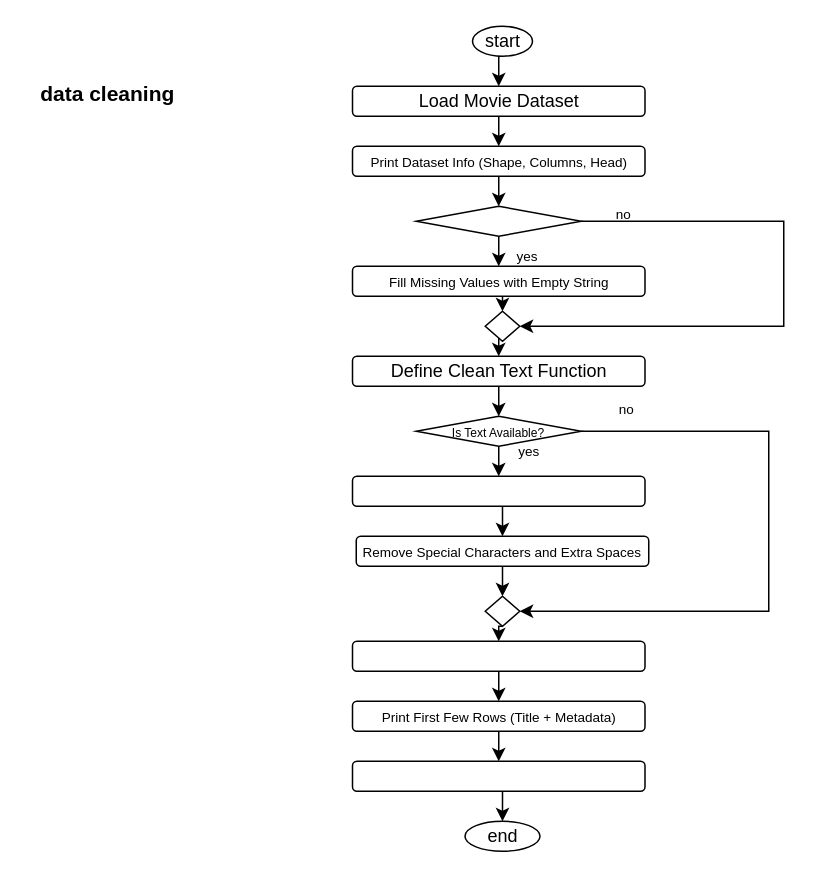
Image size: 822x878. Some labels were removed from this diagram. The centre of each missing label's shape, as x and y in pixels:
Convert Text to Lowercase: pixel 498 490
Missing Values?: pixel 498 220
Save Cleaned Dataset (movies_cleaned.csv): pixel 498 775
Store as 'metadata' Column: pixel 498 655
